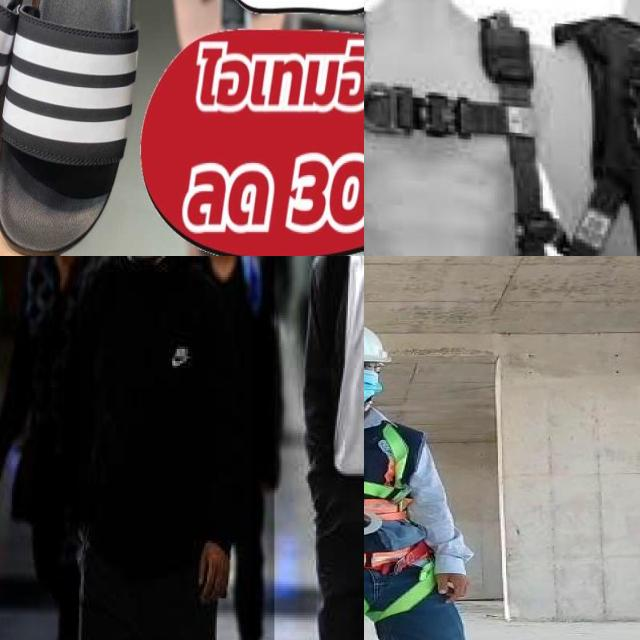Harness: (364, 12, 540, 218), (555, 16, 640, 256)
Sandals: (0, 0, 136, 256)
face_mask: (364, 365, 384, 407)
hand_noglove: (194, 535, 233, 609), (428, 554, 475, 610)
person: (77, 256, 252, 640), (364, 314, 526, 640), (274, 256, 364, 640)
